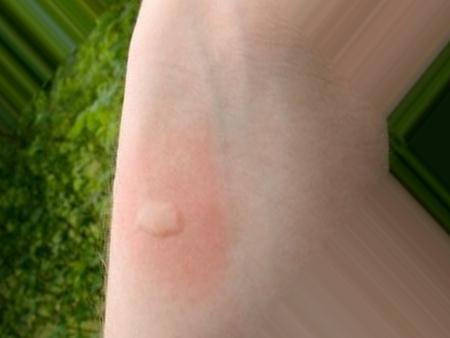Mosquito: (129, 194, 185, 241)
